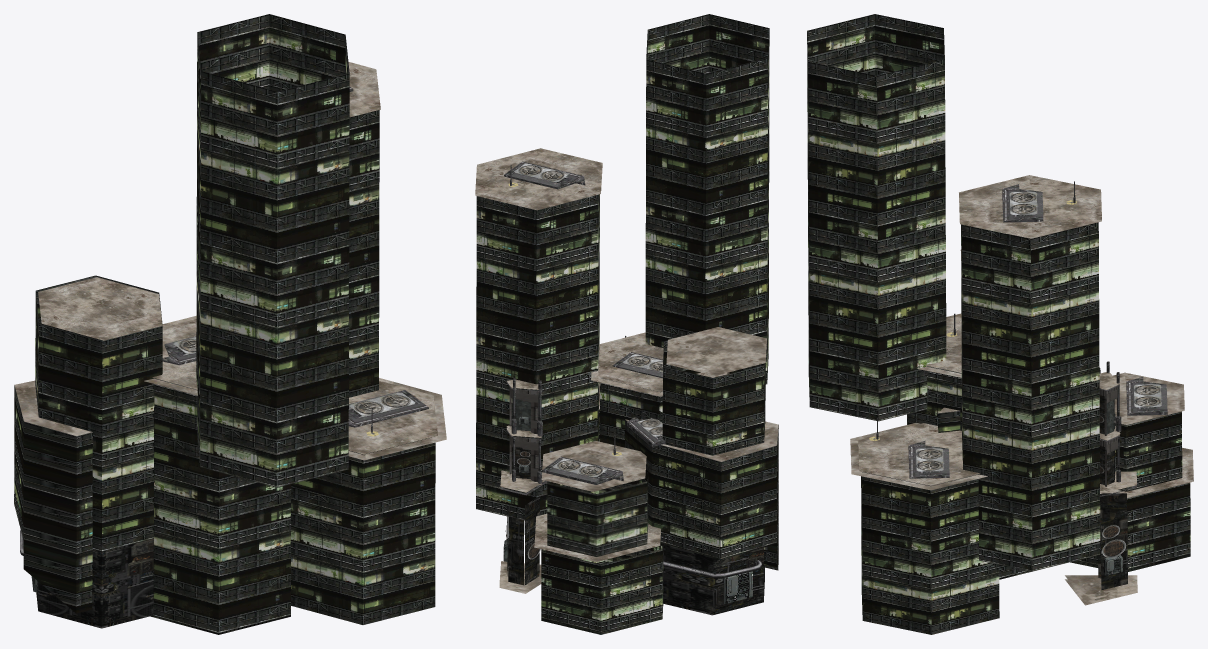
File: site_04.glb
3 views of the same model, side by side, from view 1: azimuth 30°, elevation 25°; view 2: azimuth 150°, elevation 25°; view 3: azimuth 270°, elevation 25° (orthographic). The views are drawn at different scales.
Parts seen in each view (by area): view 1: CHR_1B.253_mat_85.003_0, CHR_1B.342_mat_107.002_0, CHR_1B.300_mat_103.002_0, CHR_1B.352_mat_111.002_0, CHR_1B.357_mat_113.002_0; view 2: CHR_1B.253_mat_85.003_0, CHR_1B.342_mat_107.002_0, CHR_1B.300_mat_103.002_0, CHR_1B.352_mat_111.002_0, CHR_1B.357_mat_113.002_0, CHR_1B.275_mat_96.003_0, CHR_1B.289_mat_101.003_0, CHR_1B.408_mat_122.001_0; view 3: CHR_1B.253_mat_85.003_0, CHR_1B.342_mat_107.002_0, CHR_1B.352_mat_111.002_0, CHR_1B.300_mat_103.002_0, CHR_1B.357_mat_113.002_0, CHR_1B.275_mat_96.003_0.
Part boxes in pixels (<box>): CHR_1B.253_mat_85.003_0: <box>14,14,435,634</box>; CHR_1B.342_mat_107.002_0: <box>14,61,446,460</box>; CHR_1B.300_mat_103.002_0: <box>36,538,153,628</box>; CHR_1B.352_mat_111.002_0: <box>162,87,428,432</box>; CHR_1B.357_mat_113.002_0: <box>173,337,415,416</box>; CHR_1B.253_mat_85.003_0: <box>476,14,778,634</box>; CHR_1B.342_mat_107.002_0: <box>475,148,778,593</box>; CHR_1B.300_mat_103.002_0: <box>507,388,764,615</box>; CHR_1B.352_mat_111.002_0: <box>500,161,682,495</box>; CHR_1B.357_mat_113.002_0: <box>505,163,662,559</box>; CHR_1B.275_mat_96.003_0: <box>509,387,538,481</box>; CHR_1B.289_mat_101.003_0: <box>503,416,752,603</box>; CHR_1B.408_mat_122.001_0: <box>663,560,761,577</box>; CHR_1B.253_mat_85.003_0: <box>807,14,1190,634</box>; CHR_1B.342_mat_107.002_0: <box>850,175,1193,605</box>; CHR_1B.352_mat_111.002_0: <box>876,181,1167,496</box>; CHR_1B.300_mat_103.002_0: <box>1098,395,1127,590</box>; CHR_1B.357_mat_113.002_0: <box>916,191,1161,557</box>; CHR_1B.275_mat_96.003_0: <box>1099,386,1117,486</box>.
Size of the model in its own units: 98.75 by 151 by 104.
Materials: 11 (11 with a texture image).
